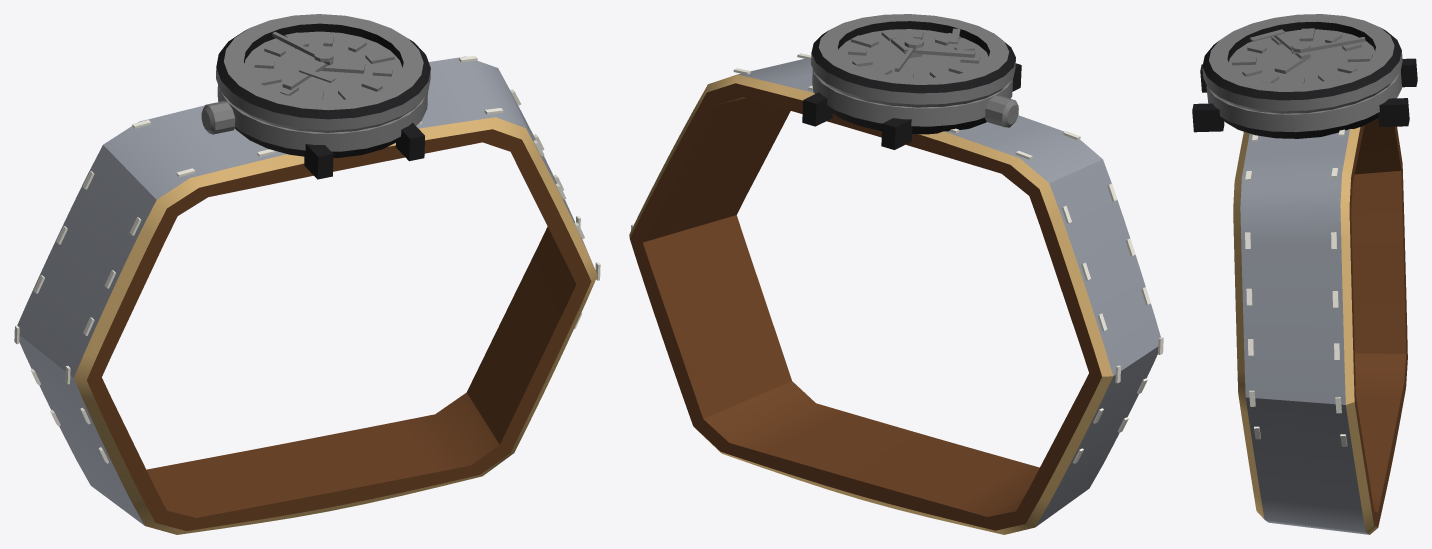
Rendered from Wrist_Watch.fbx.
The picture shows the model from 3 angles, left to right: view 1: azimuth 30°, elevation 25°; view 2: azimuth 150°, elevation 25°; view 3: azimuth 270°, elevation 25°; orthographic projection. The views are drawn at different scales.
Visible parts, largest first — view 1: Wrist_Watch; view 2: Wrist_Watch; view 3: Wrist_Watch.
Boxes of the visible parts, box(x1,y1,x2,y2) form: Wrist_Watch: box(14, 14, 600, 534); Wrist_Watch: box(629, 14, 1163, 534); Wrist_Watch: box(1192, 14, 1417, 534).
Bounding box in the file's own units: 0.483 × 0.3873 × 0.1886.
Materials: 1 (1 with a texture image).
